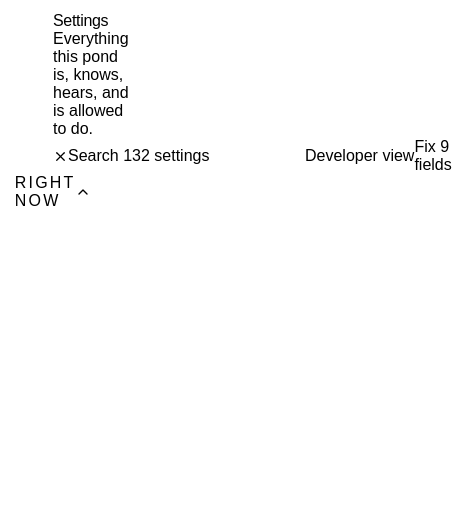
SettingsCatalogue › disarms the setup button when developer view is switched off
The width and height of the screenshot is (469, 513).
Step 1. Click the button "Developer view" → (356, 156), box x1=298 y1=147 x2=414 y2=165
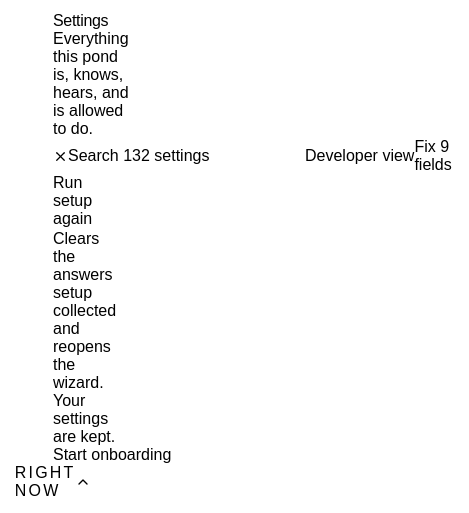
Step 2. Click the button "Start onboarding" → (112, 455), box x1=53 y1=446 x2=171 y2=464
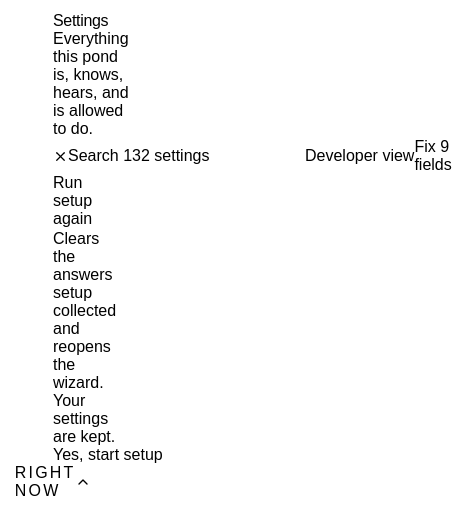
Expected: the button "Yes, start setup" is shown, x1=53 y1=446 x2=163 y2=464
Step 3. Click the button "Developer view" → (356, 156), box x1=298 y1=147 x2=414 y2=165
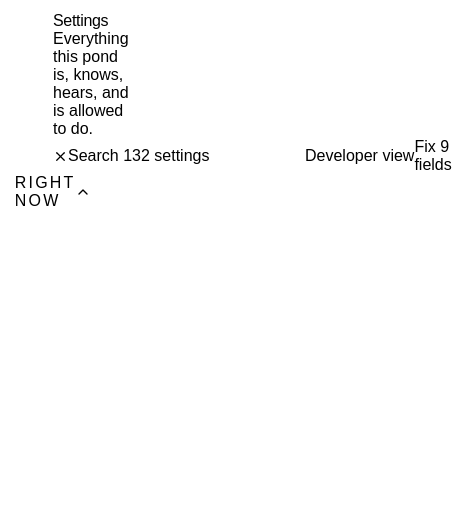
Step 4. Click the button "Developer view" → (356, 156), box x1=298 y1=147 x2=414 y2=165
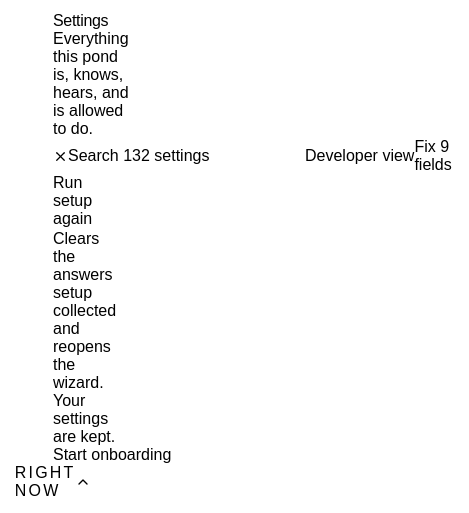
Expected: the button "Start onboarding" is shown, x1=53 y1=446 x2=171 y2=464
